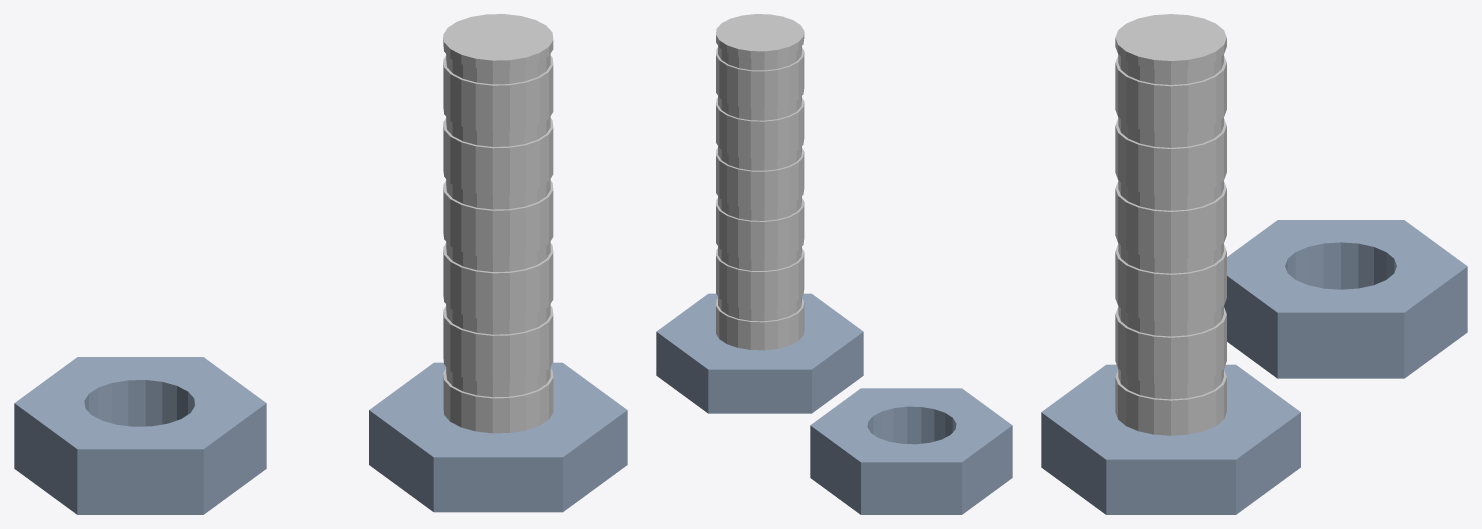
Rendered from møtrik.fbx.
The picture shows the model from 3 angles, left to right: view 1: azimuth 30°, elevation 25°; view 2: azimuth 150°, elevation 25°; view 3: azimuth 270°, elevation 25°; orthographic projection. The views are drawn at different scales.
Visible parts, largest first — view 1: Cylinder.002, Cylinder, Cylinder.001; view 2: Cylinder.002, Cylinder, Cylinder.001; view 3: Cylinder.002, Cylinder, Cylinder.001.
Boxes of the visible parts, box(x1,y1,x2,y2) form: Cylinder.002: box(443, 14, 553, 433); Cylinder: box(14, 357, 266, 514); Cylinder.001: box(369, 362, 627, 512); Cylinder.002: box(716, 14, 804, 350); Cylinder: box(810, 388, 1012, 514); Cylinder.001: box(656, 293, 863, 413); Cylinder.002: box(1115, 14, 1226, 435); Cylinder: box(1224, 220, 1467, 378); Cylinder.001: box(1041, 364, 1300, 514).
Bounding box in the file's own units: 350 × 308 × 277.
